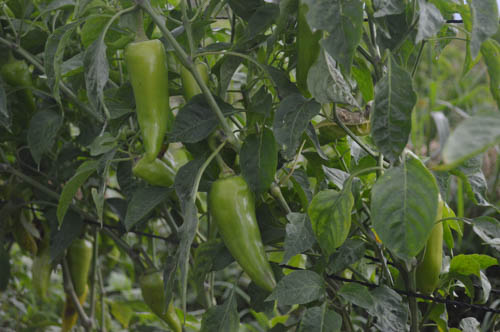ChiliPepper: (214, 178, 276, 289), (128, 40, 170, 160), (63, 241, 97, 309), (422, 196, 445, 293), (135, 157, 191, 196), (139, 270, 167, 315), (180, 61, 208, 105)
